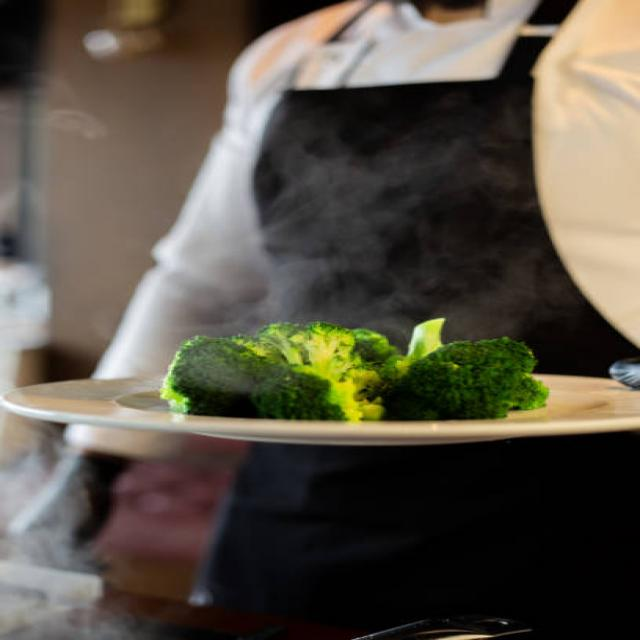broccoli: (152, 327, 555, 422)
